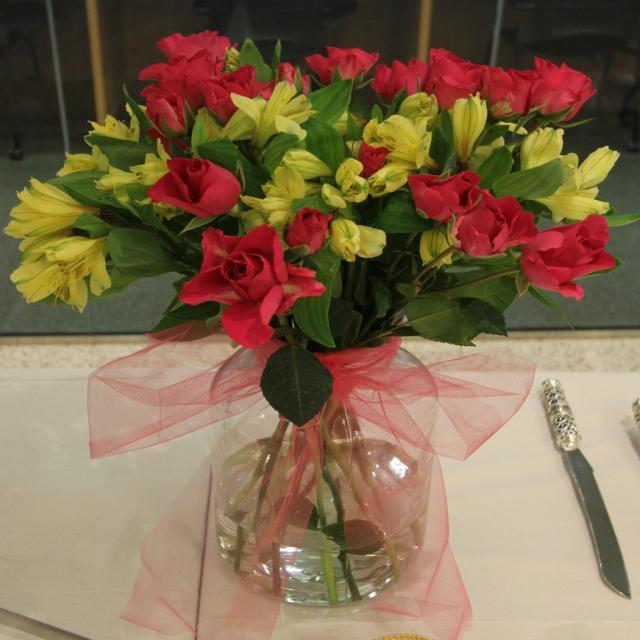Knife: (542, 378, 630, 598)
